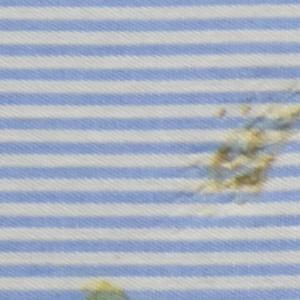Oil Stain: (199, 102, 300, 211), (80, 274, 132, 300)
